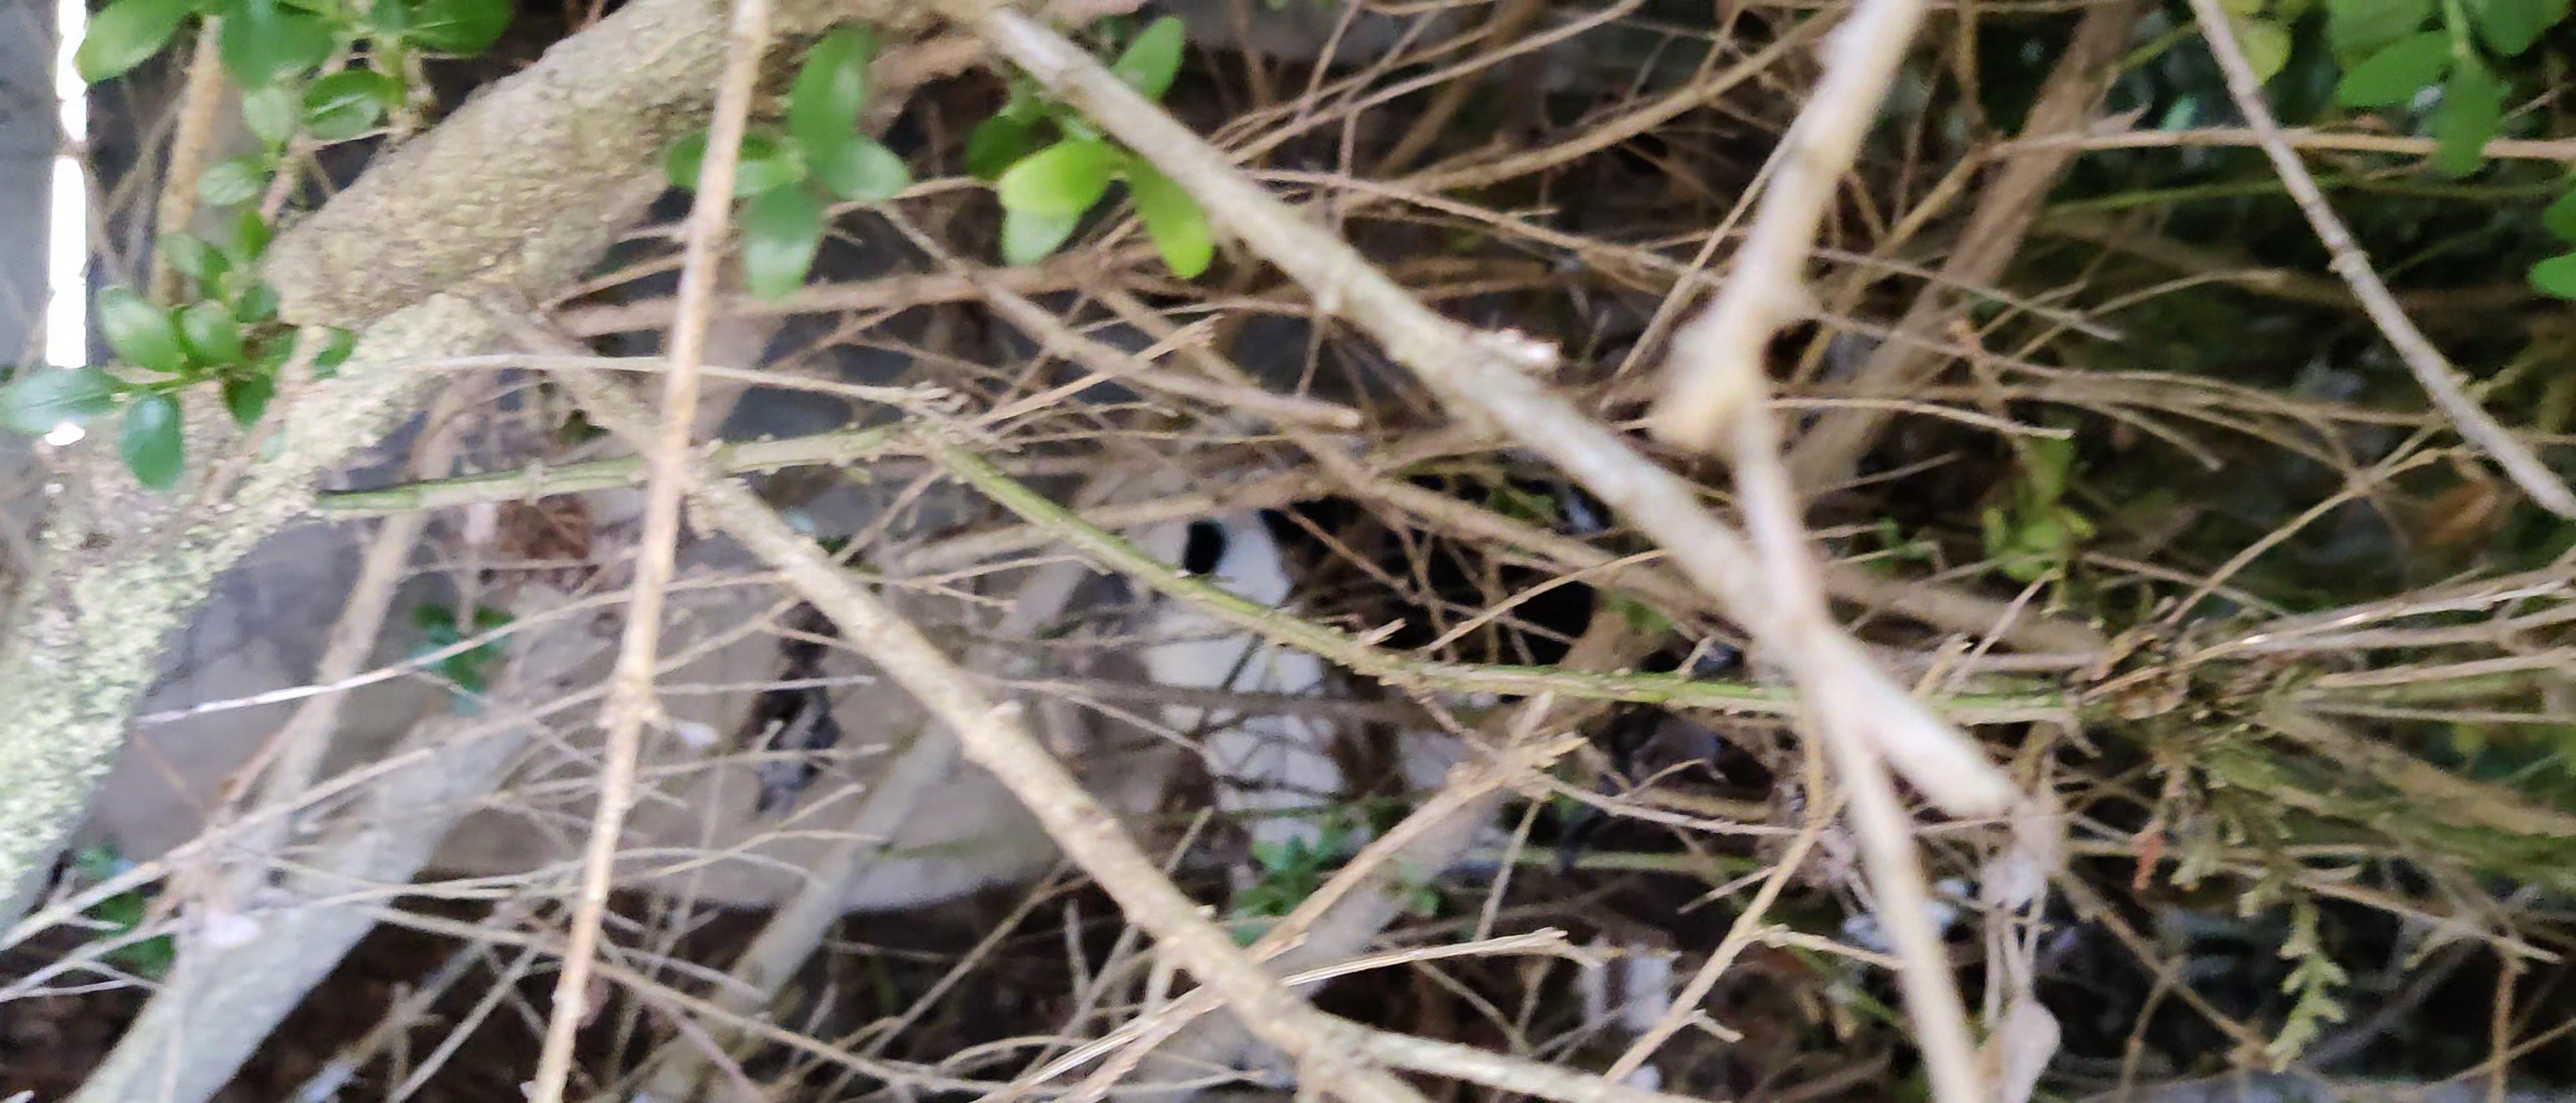Dog: (1074, 385, 1732, 1103)
